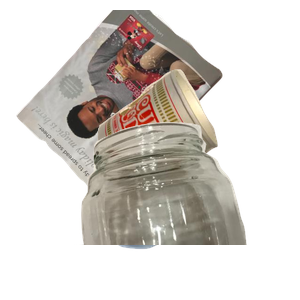glass: (74, 120, 300, 300)
paper: (14, 10, 229, 190)
plastic: (98, 176, 266, 300)
trash: (95, 67, 300, 238)
